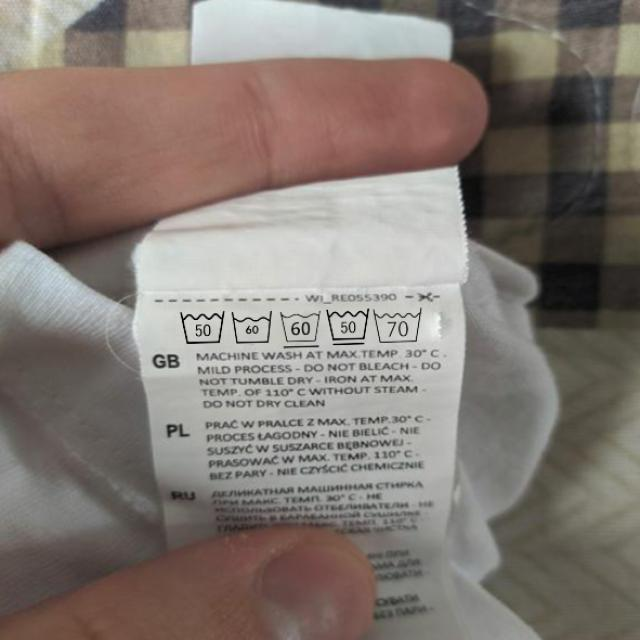50C: (177, 306, 227, 347), (326, 306, 371, 347)
60C: (281, 308, 324, 348), (230, 308, 275, 346)
70C: (373, 306, 425, 346)
